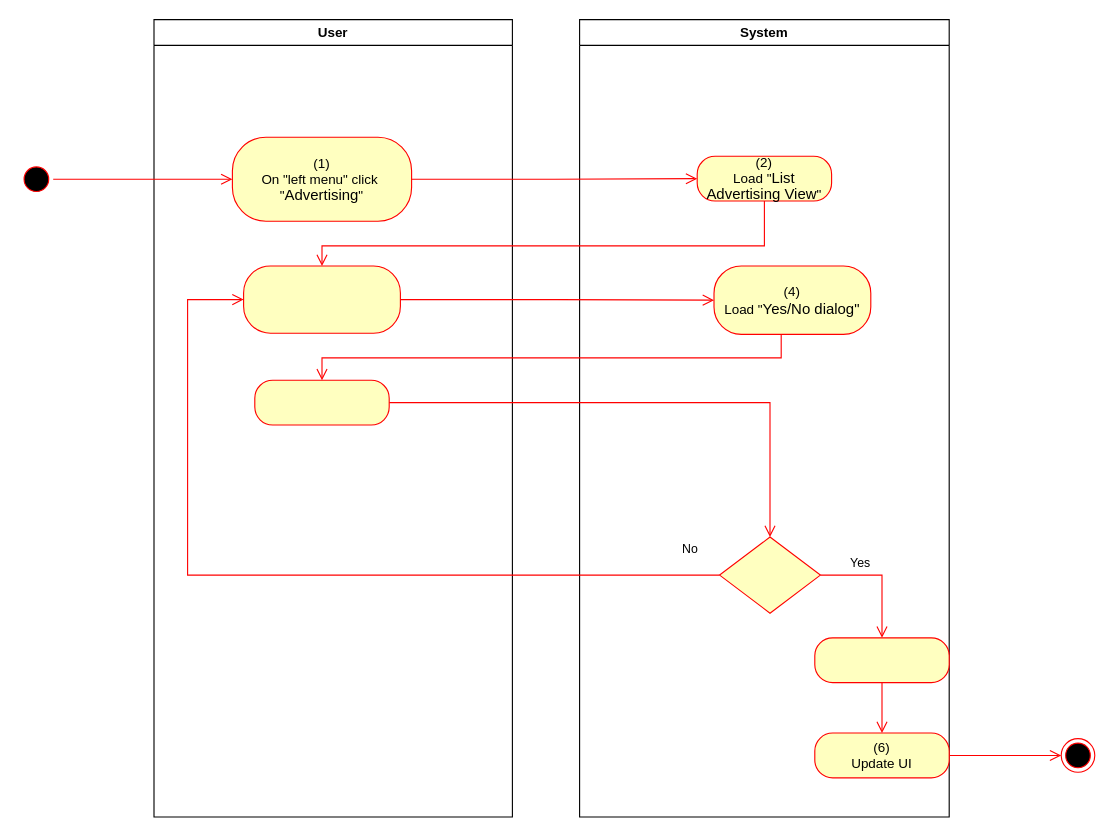
Image size: 1114x837. Some labels were removed from this diagram. The box of each missing label's shape, as (x1, y1, x2, y2) in pixels:
(3) Click button "Xóa" trên 1 item quảng cáo bất kỳ: (242, 265, 400, 333)
(5) Click "Yes" or "No" button: (254, 379, 389, 425)
(5.1) Delete Advertising unit to DB: (814, 637, 949, 683)
